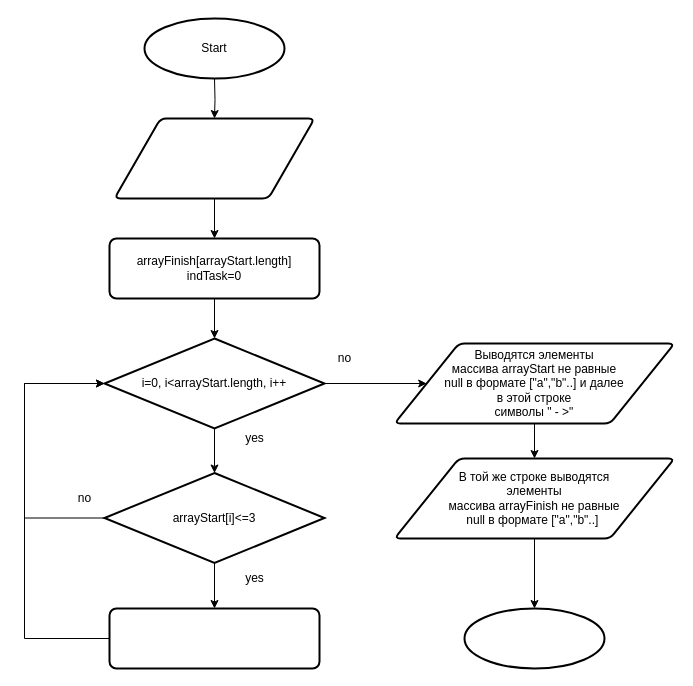
Image size: 693x686. Some labels were removed from this diagram. Each missing label, with the box of its shape:
arrayFinish[indTask]=arrayStart[i] indTask=++: (108, 607, 320, 669)
arrayStart [] (вводиться необходимое количество элементов в консоли): (113, 117, 315, 199)
End: (463, 607, 605, 669)
